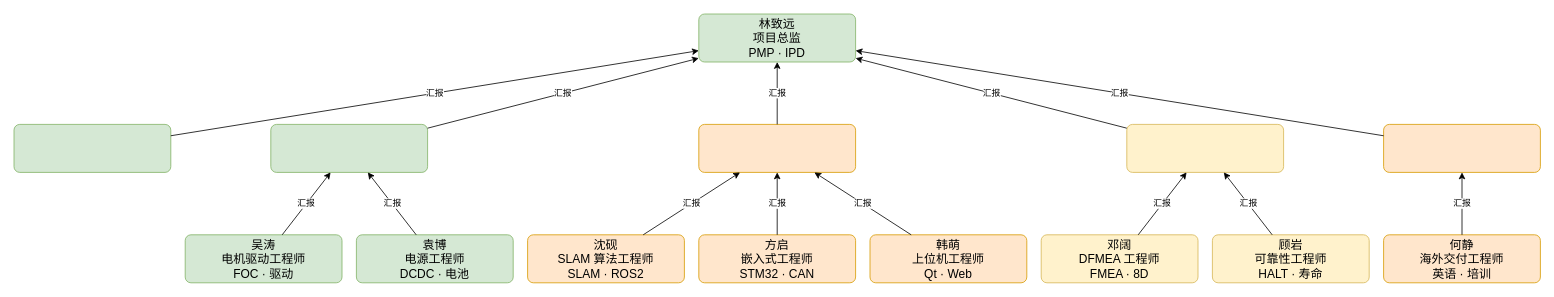
The diagram is 1554 pixels wide and 297 high, and some of its shapes have lost their labels. Here are the shapes that lost their labels. From the top down, the centre of each, then its label:
At (x=92, y=148): "徐玲 项目经理 敏捷 · Scrum".
At (x=349, y=148): "陈锋 硬件负责人 原理图 · PCB · EMC".
At (x=777, y=148): "郑宇 软件负责人 RTOS · C++".
At (x=1205, y=148): "白露 测试负责人 自动化".
At (x=1461, y=148): "秦峰 交付与服务负责人 现场".
